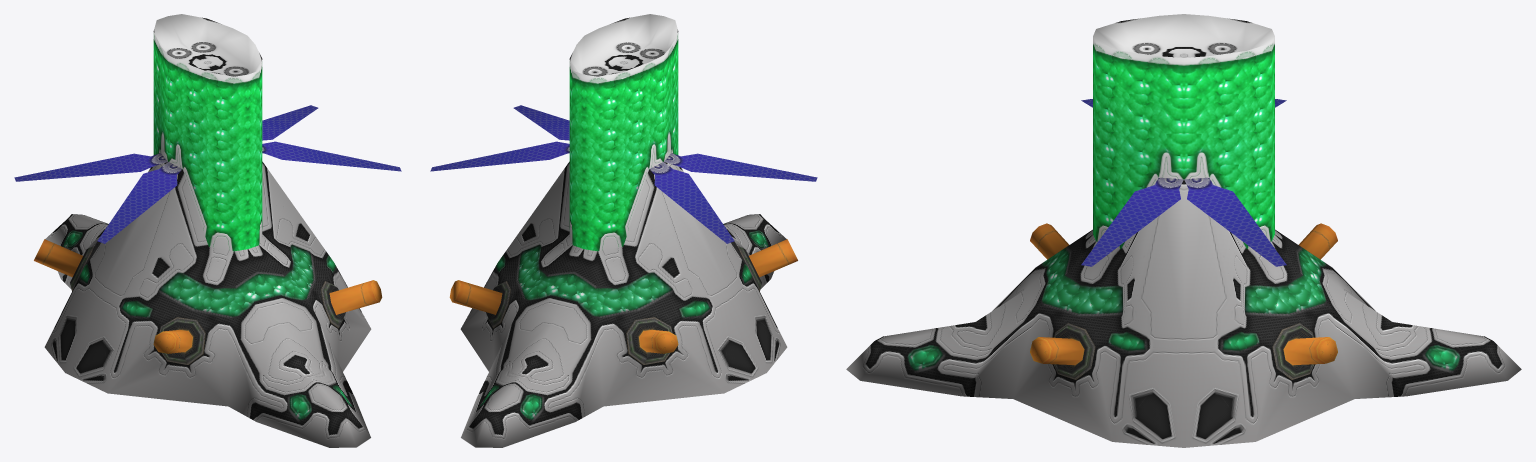
Rendered from Granja.fbx.
3 views of the same model, side by side, from view 1: azimuth 30°, elevation 25°; view 2: azimuth 150°, elevation 25°; view 3: azimuth 270°, elevation 25° (orthographic). The views are drawn at different scales.
Parts seen in each view (by area): view 1: Cylinder; view 2: Cylinder; view 3: Cylinder.
Boxes of the visible parts, x1,y1,x2,y2 form: Cylinder: (14, 14, 401, 447); Cylinder: (430, 14, 817, 447); Cylinder: (846, 14, 1521, 447).
Size of the model in its own units: 2.12 by 1.96 by 3.61.
Materials: 1 (1 with a texture image).
